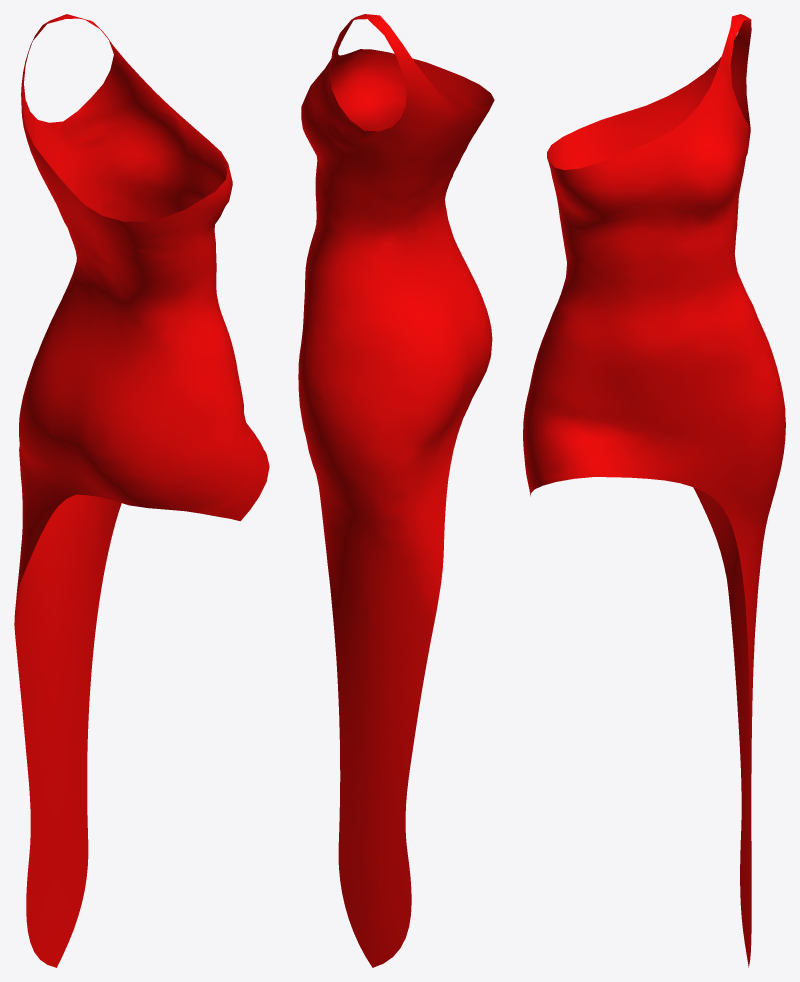
The picture shows the model from 3 angles, left to right: view 1: azimuth 30°, elevation 25°; view 2: azimuth 150°, elevation 25°; view 3: azimuth 270°, elevation 25°; orthographic projection.
Visible parts, largest first — view 1: RedDress; view 2: RedDress; view 3: RedDress.
Boxes of the visible parts, x1=… form: RedDress: x1=14, y1=14, x2=269, y2=967; RedDress: x1=298, y1=14, x2=494, y2=967; RedDress: x1=523, y1=14, x2=785, y2=967.
Bounding box in the file's own units: 0.2795 × 1.45 × 0.3621.
